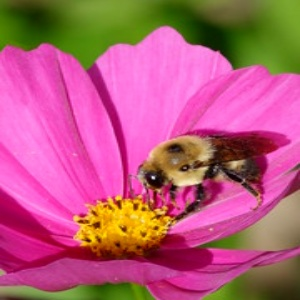bee: (132, 131, 283, 206)
